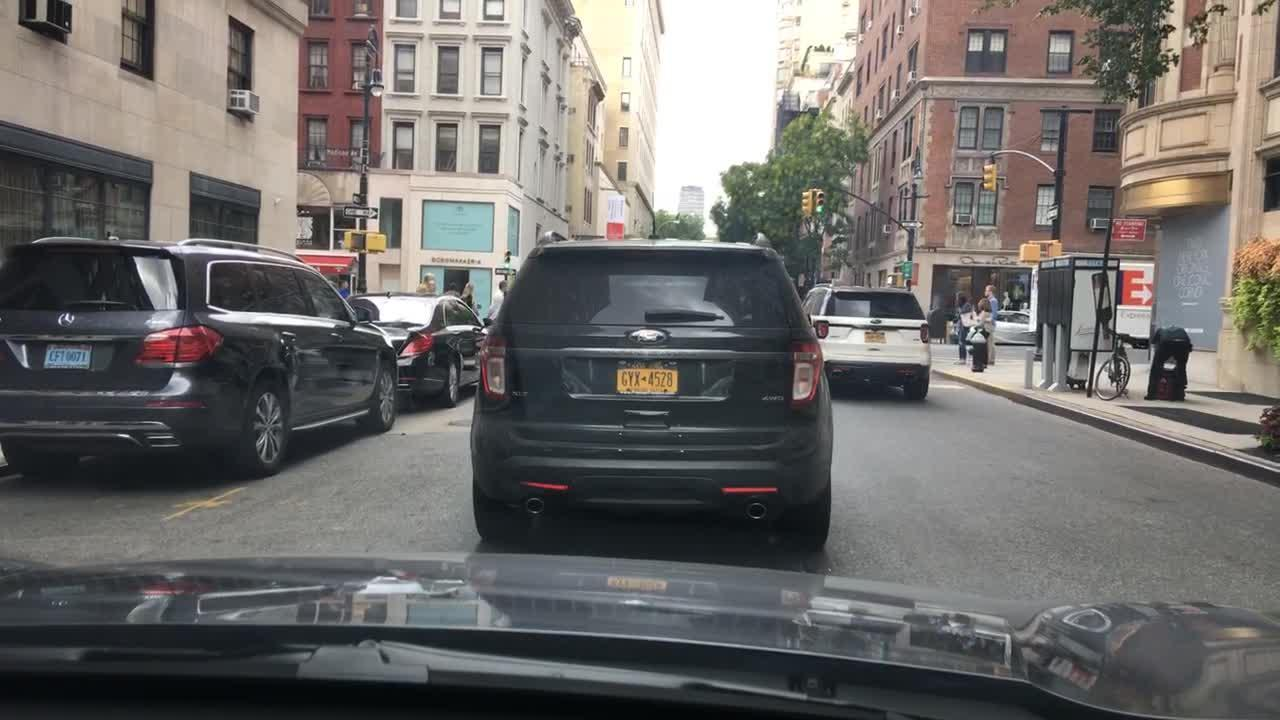Mercedes: (56, 311, 77, 331)
ford: (622, 322, 670, 352), (866, 317, 885, 327)
